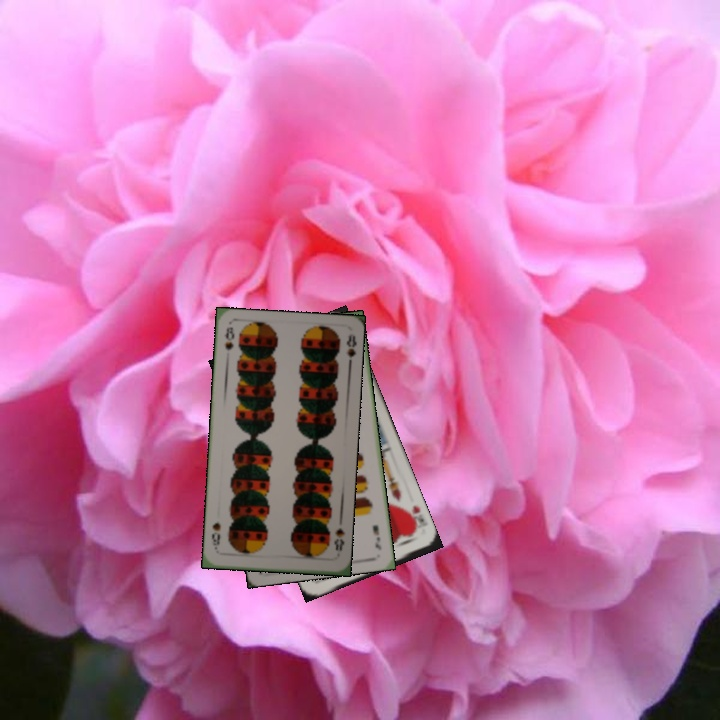E7: (369, 521, 384, 552)
HK: (402, 502, 427, 534)
S8: (220, 323, 237, 353), (330, 524, 347, 553)
